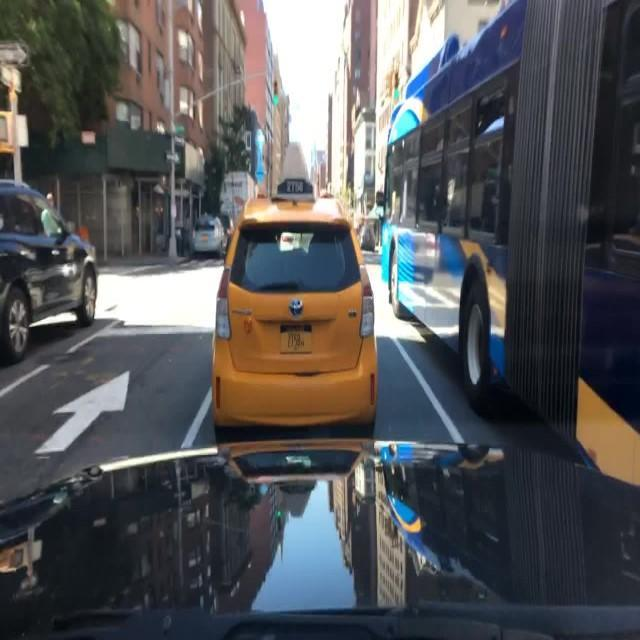normal: (197, 170, 390, 449)
